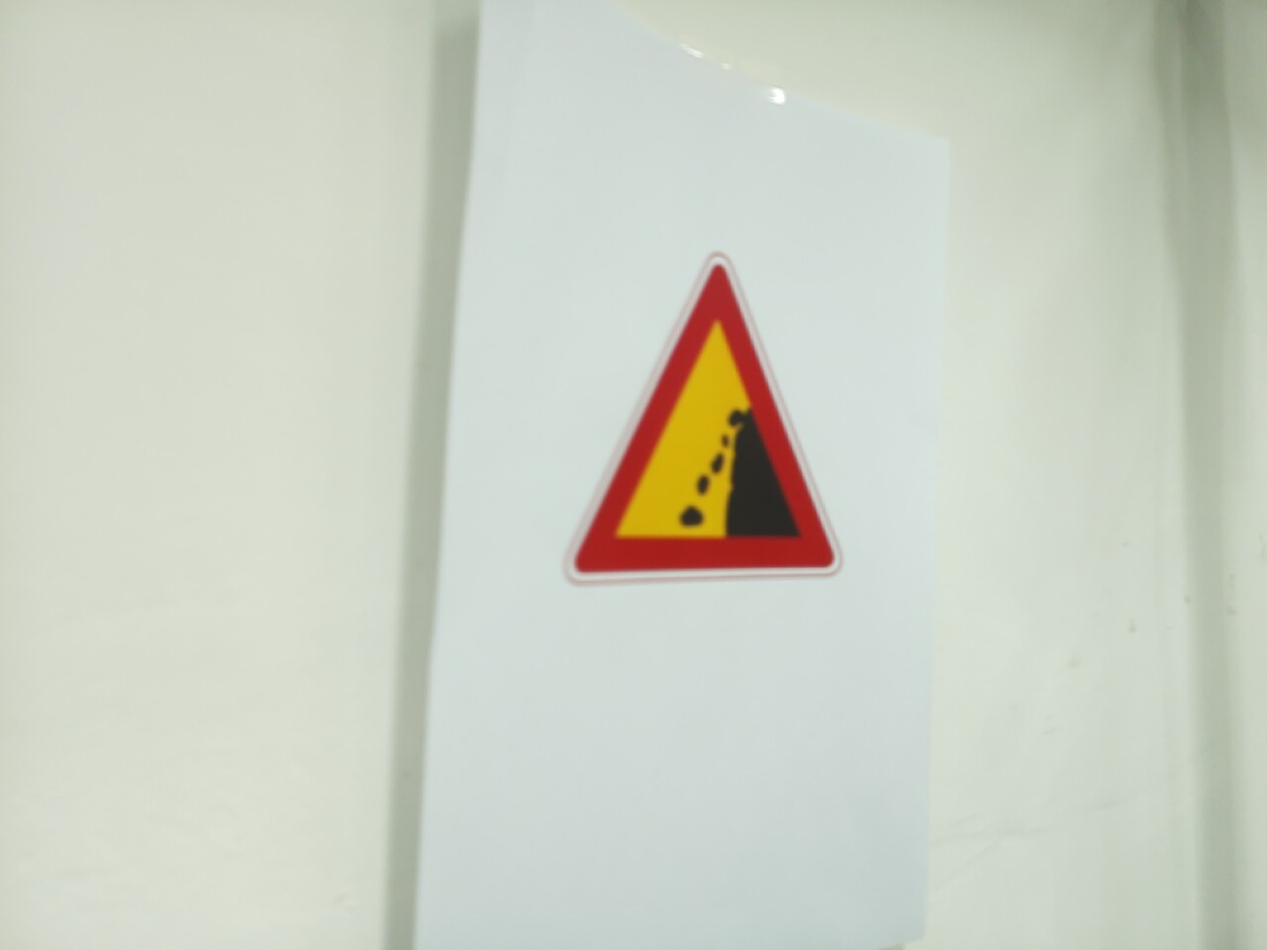falling_rocks: (565, 254, 843, 583)
